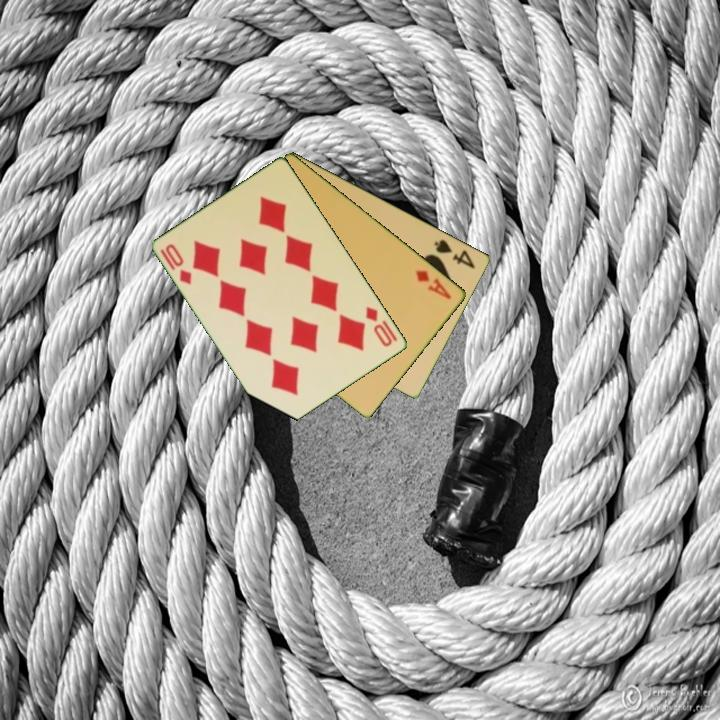10d: (362, 303, 401, 350), (157, 240, 195, 287)
4s: (431, 236, 479, 272)
Ad: (412, 266, 455, 302)
